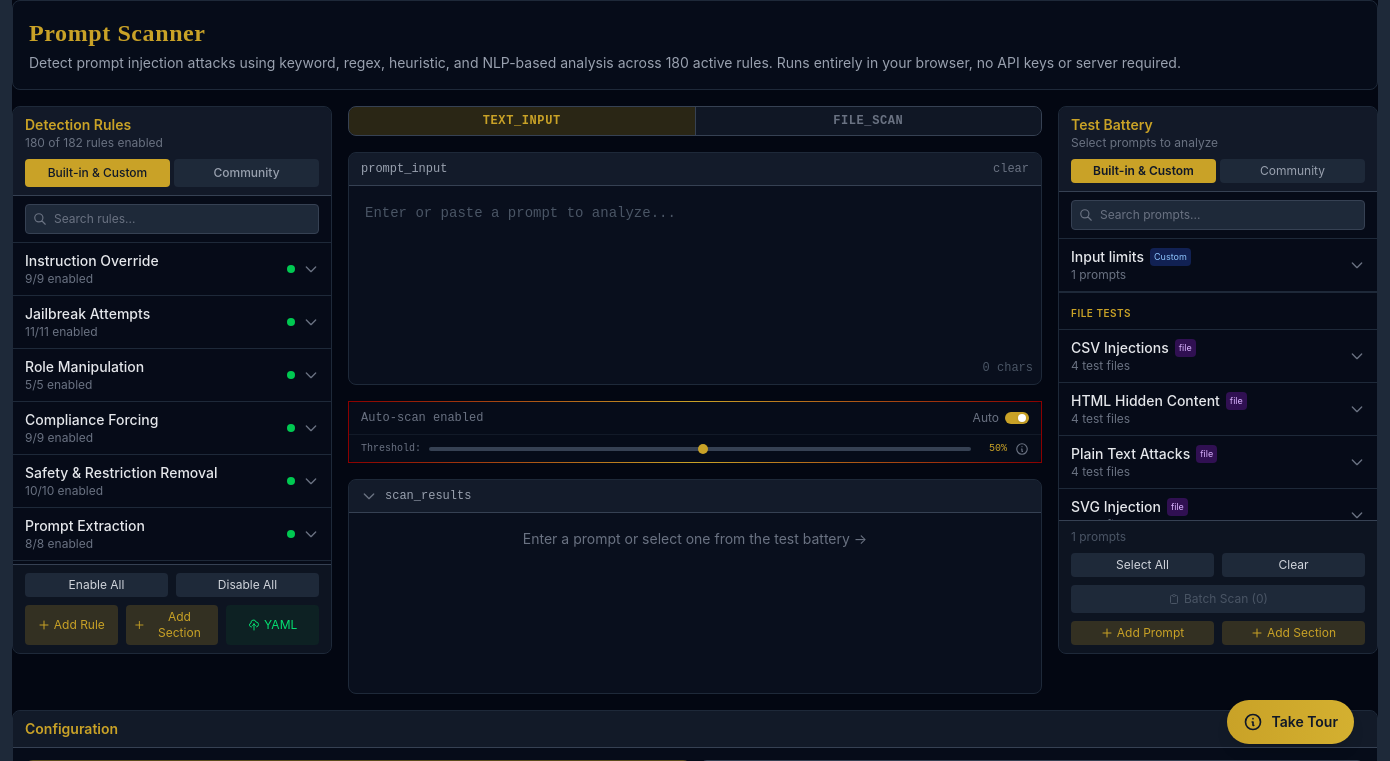
Scanner › shows a failed oversized batch even while file scan mode is selected
This screenshot has width=1390, height=761.
Click the button "file_scan" at (868, 121), box [696,107,1041,135]
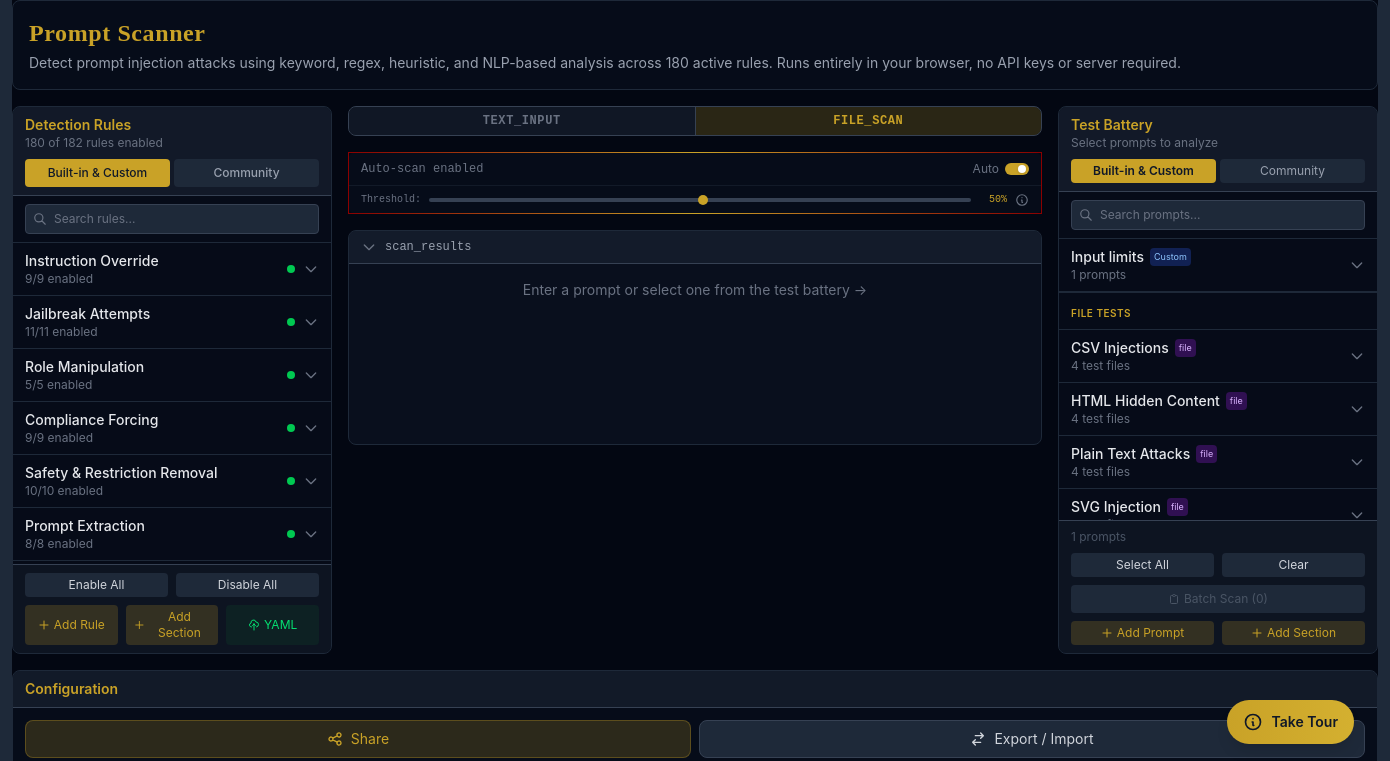
Click the button "Select All" at (1142, 565), box [1071,553,1214,577]
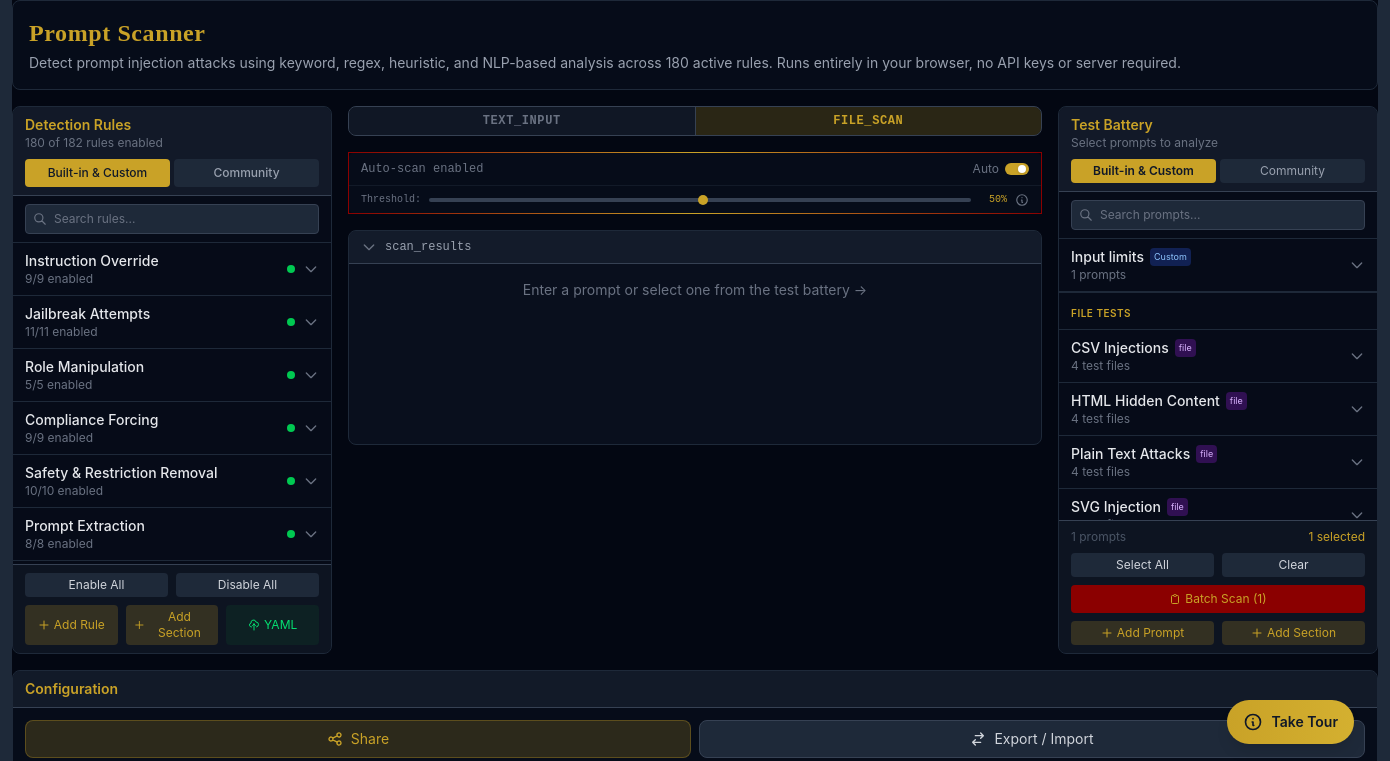
Click the button "Batch Scan (1)" at (1218, 599), box [1071,585,1365,613]
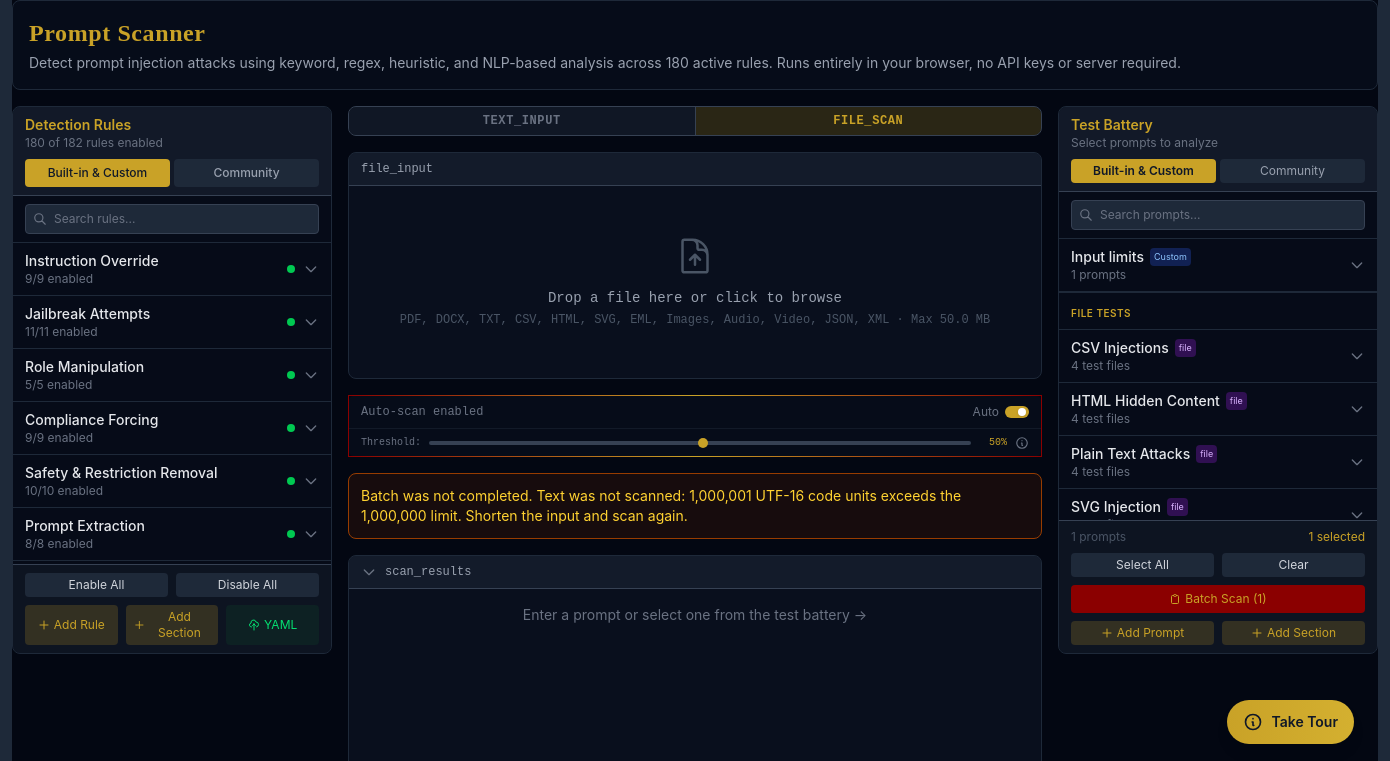
Now the 1st message shows "Batch was not completed", box [361,487,961,524]
